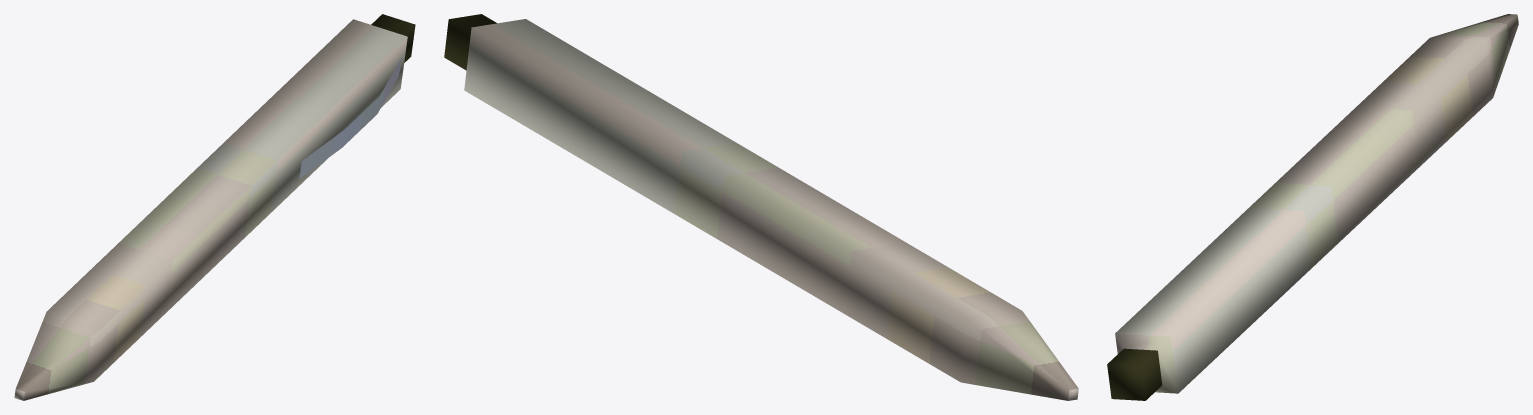
Rendered from pen2.obj.
The picture shows the model from 3 angles, left to right: view 1: azimuth 90°, elevation 25°; view 2: azimuth 150°, elevation 25°; view 3: azimuth 270°, elevation 25°; orthographic projection. The views are drawn at different scales.
Visible parts, largest first — view 1: pen2; view 2: pen2; view 3: pen2.
Part boxes in pixels (left/top/right/bottom): pen2: left=14, top=14, right=415, bottom=400; pen2: left=444, top=14, right=1078, bottom=400; pen2: left=1107, top=14, right=1518, bottom=400.
Bounding box in the file's own units: 0.2213 × 0.0181 × 0.1038.
